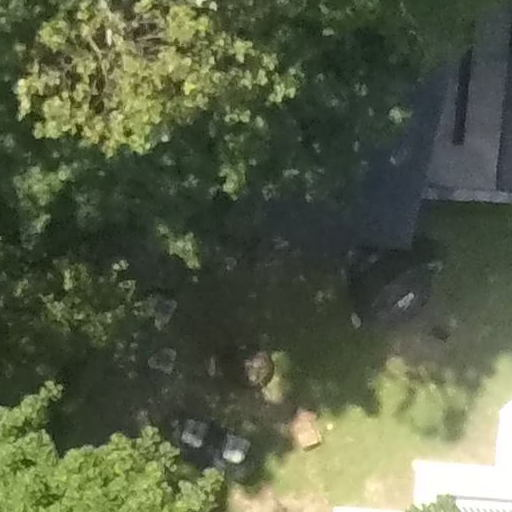chair: (137, 288, 185, 332), (171, 412, 215, 454), (140, 341, 185, 377), (220, 435, 263, 467)
fire pit: (221, 337, 285, 397)
